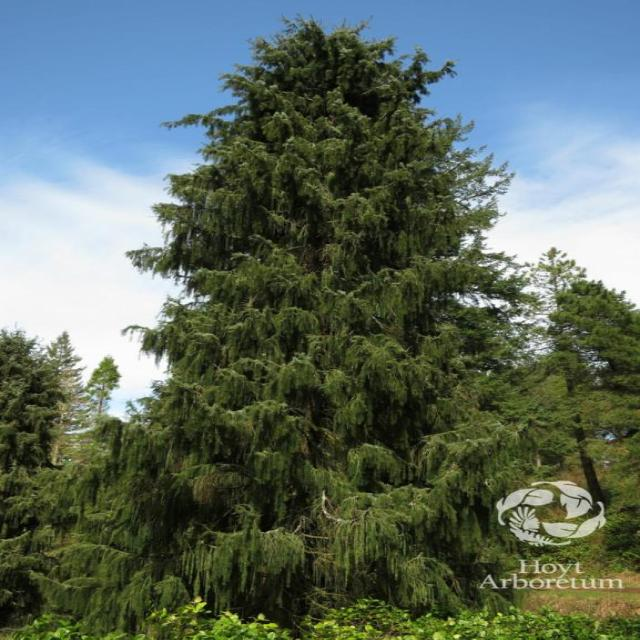Picea breweriana: (146, 16, 522, 606)
